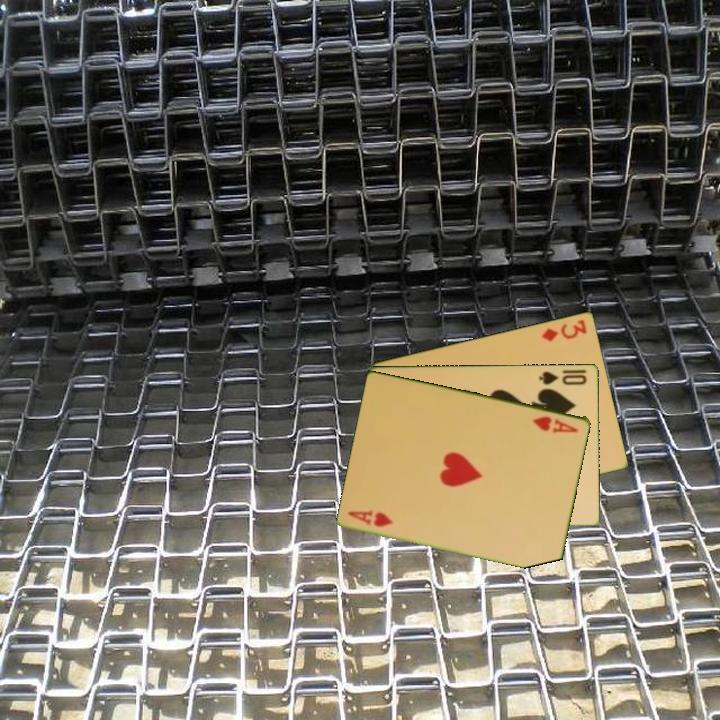10s: (536, 367, 590, 388)
3d: (538, 316, 590, 344)
Ah: (530, 412, 581, 435), (345, 507, 396, 530)
